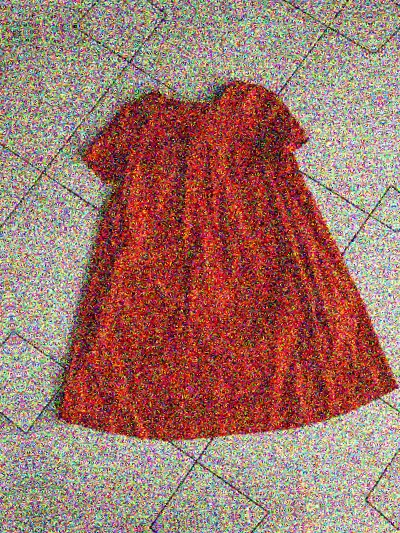Dress: (8, 0, 400, 477), (0, 0, 346, 30), (387, 0, 400, 428)
